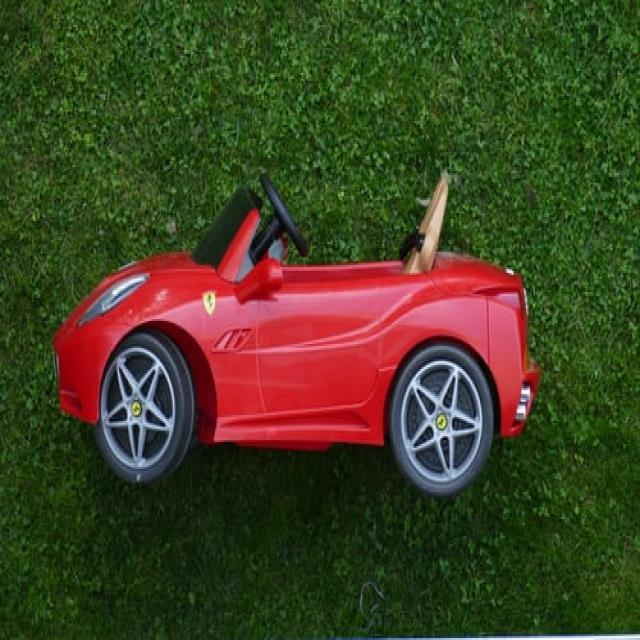Car: (50, 169, 540, 498)
